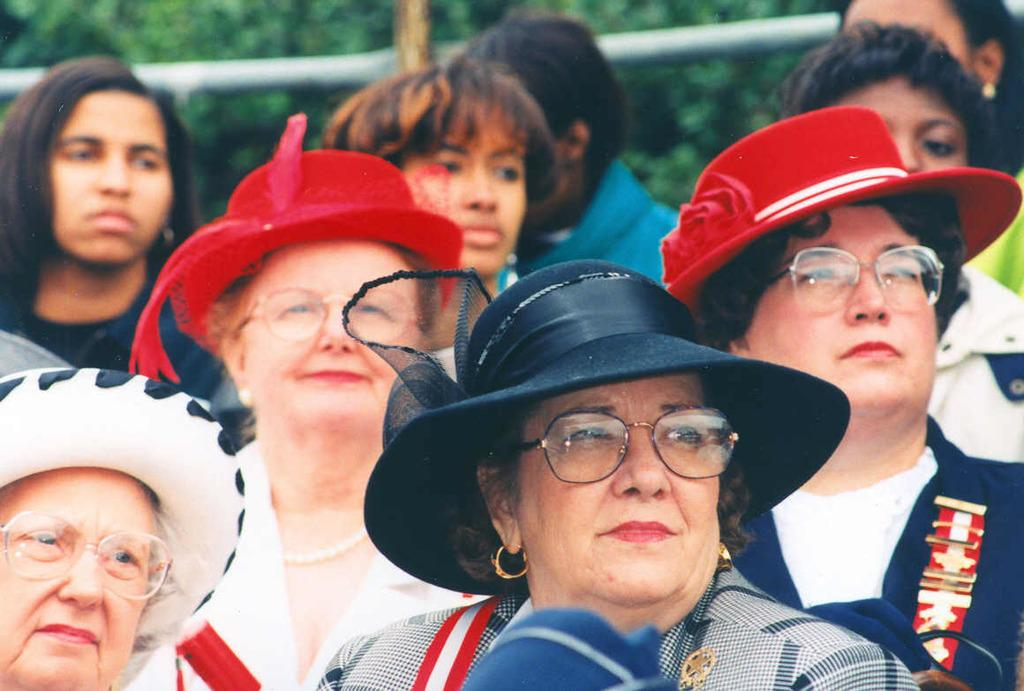Hat: (364, 258, 852, 598), (124, 111, 468, 383), (0, 365, 245, 690), (664, 108, 1022, 309)
